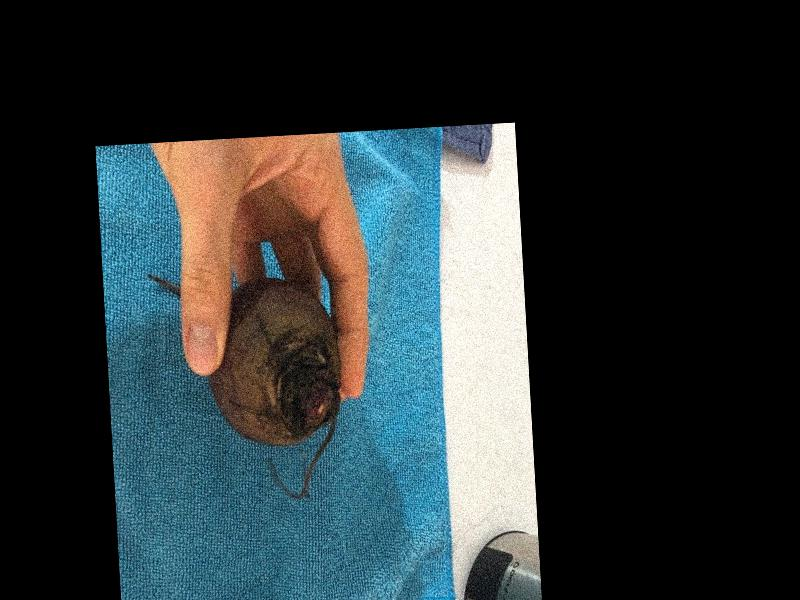Beet: (148, 264, 346, 504)
